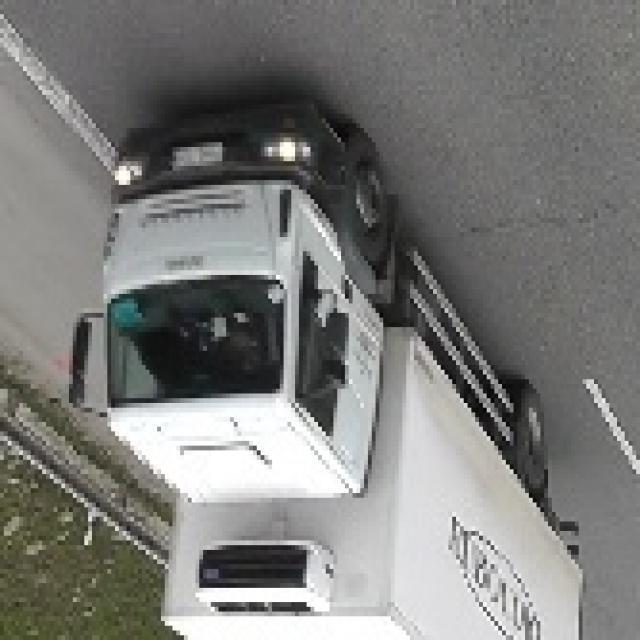truck: (54, 79, 412, 518)
